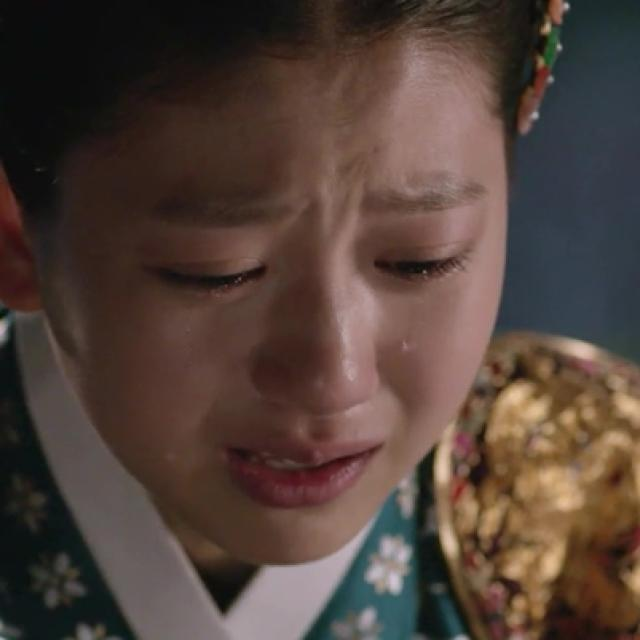Depress: (40, 43, 506, 568)
